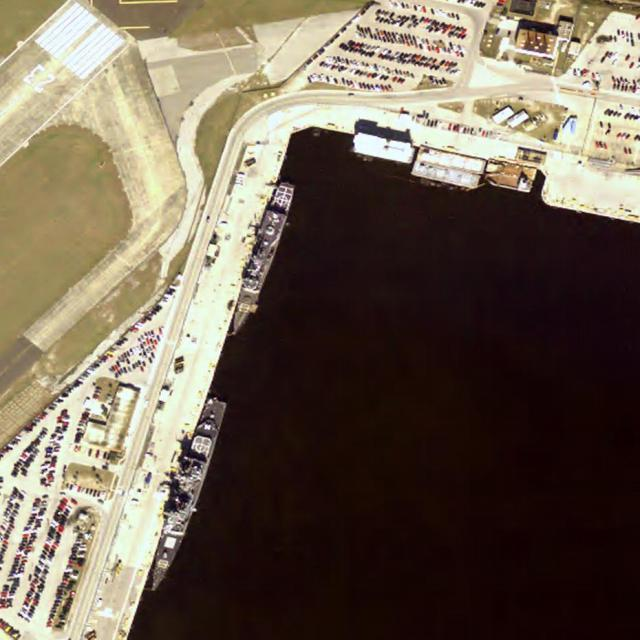Cruiser: (145, 398, 226, 595)
Frigate: (228, 180, 295, 338)
